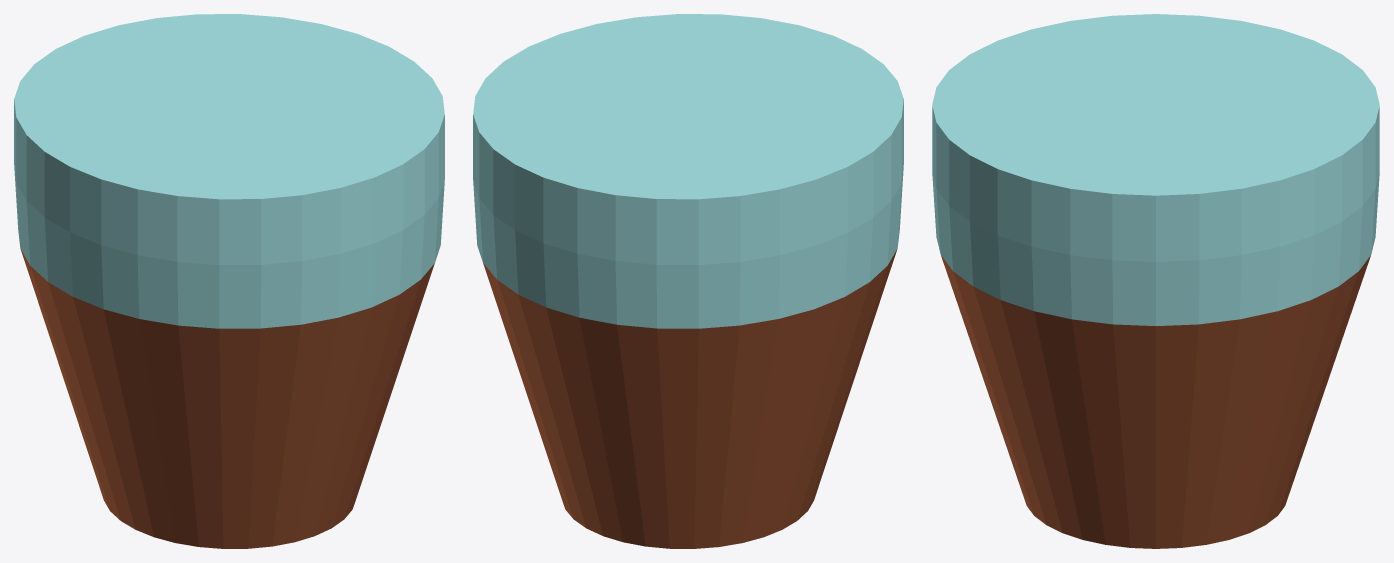
The model's file is Shot Glass.fbx.
3 views of the same model, side by side, from view 1: azimuth 30°, elevation 25°; view 2: azimuth 150°, elevation 25°; view 3: azimuth 270°, elevation 25° (orthographic).
Parts seen in each view (by area): view 1: Shot Glass; view 2: Shot Glass; view 3: Shot Glass.
Boxes of the visible parts, x1,y1,x2,y2 form: Shot Glass: (14, 14, 444, 548); Shot Glass: (473, 14, 903, 548); Shot Glass: (932, 14, 1379, 548).
Size of the model in its own units: 109 by 109 by 113.
